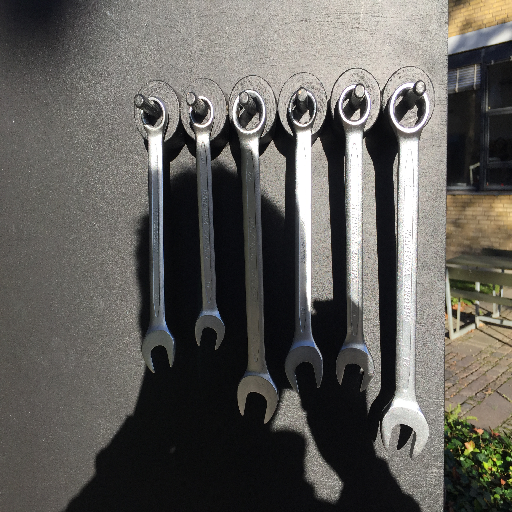bottom: (379, 400, 431, 461), (236, 371, 280, 426), (335, 341, 374, 394), (285, 343, 325, 393), (140, 329, 176, 376), (193, 311, 227, 351)
top: (386, 81, 430, 138), (230, 88, 269, 140), (336, 83, 373, 130), (286, 88, 318, 131), (139, 96, 171, 136), (187, 95, 217, 131)
